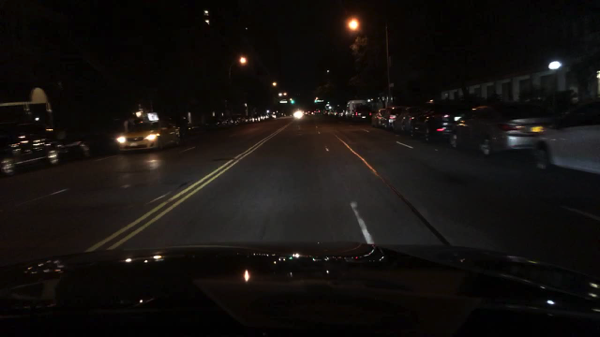car: (450, 98, 554, 156), (529, 99, 599, 176), (1, 94, 64, 176), (110, 112, 182, 153), (407, 98, 464, 143), (390, 104, 424, 132), (379, 104, 405, 130), (175, 116, 193, 142), (204, 116, 226, 132), (351, 108, 373, 124), (372, 107, 385, 128), (224, 118, 235, 130), (240, 116, 249, 124), (232, 117, 240, 125), (338, 110, 346, 117), (249, 117, 258, 123), (307, 111, 316, 116), (295, 112, 302, 118), (324, 109, 329, 117), (264, 114, 270, 120), (331, 110, 338, 115), (258, 115, 263, 120), (270, 114, 276, 118)
traffic light: (290, 97, 294, 104), (315, 97, 318, 104)
traffic sign: (279, 101, 287, 103)
truck: (347, 100, 366, 120)
